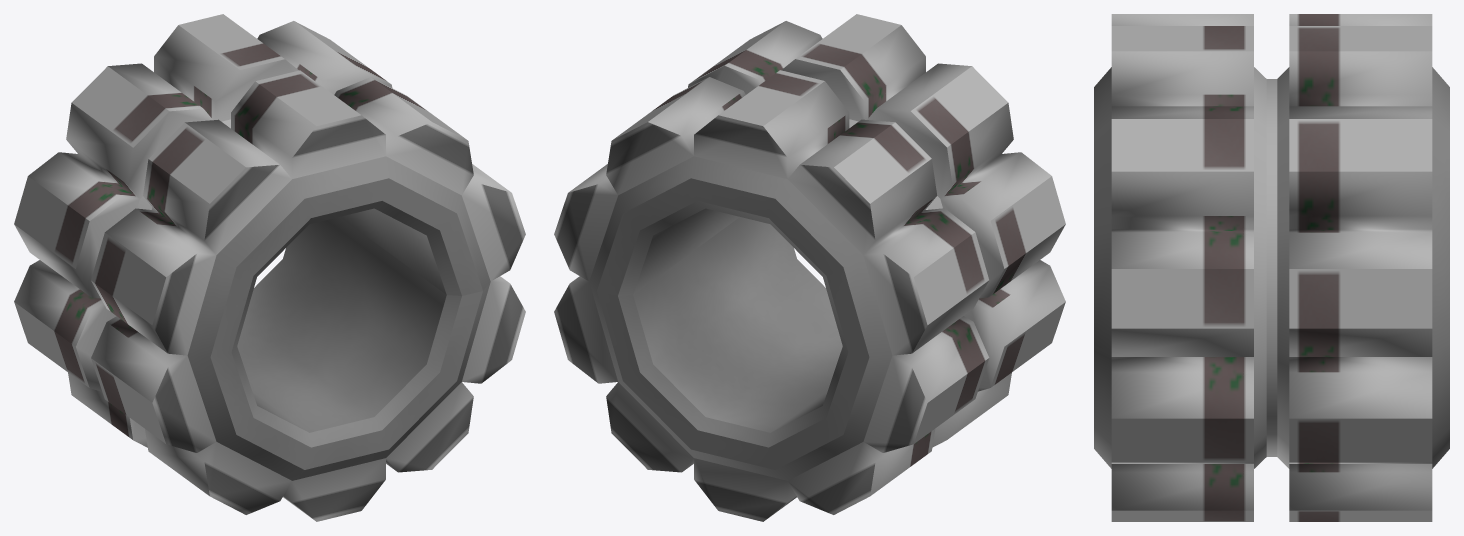
The model's file is Counterweight.fbx.
The picture shows the model from 3 angles, left to right: view 1: azimuth 30°, elevation 25°; view 2: azimuth 150°, elevation 25°; view 3: azimuth 270°, elevation 25°; orthographic projection. The views are drawn at different scales.
Parts seen in each view (by area): view 1: Counterweight; view 2: Counterweight; view 3: Counterweight.
Part boxes in pixels (x1,y1,x2,y2): Counterweight: (14,14,525,521); Counterweight: (554,14,1065,521); Counterweight: (1094,14,1449,521).
Size of the model in its own units: 567 by 574 by 404.
1 material, 1 textured.
